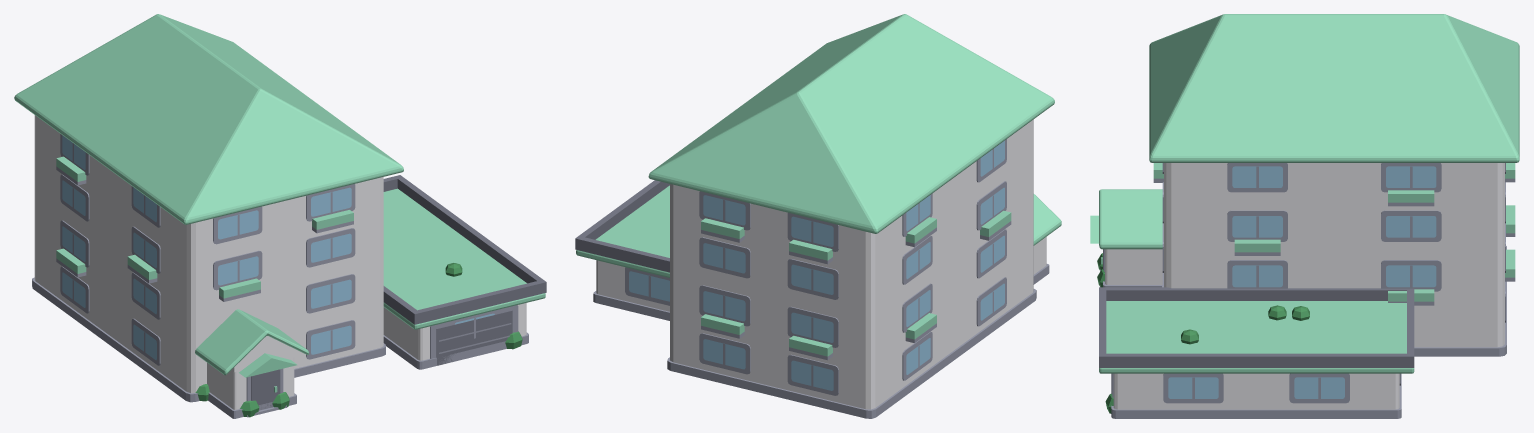
File: house-2x2-4f-mansard-a.glb
The picture shows the model from 3 angles, left to right: view 1: azimuth 30°, elevation 25°; view 2: azimuth 150°, elevation 25°; view 3: azimuth 270°, elevation 25°; orthographic projection. The views are drawn at different scales.
Visible parts, largest first — view 1: house-2x2-4f-mansard-a; view 2: house-2x2-4f-mansard-a; view 3: house-2x2-4f-mansard-a.
Boxes of the visible parts, x1,y1,x2,y2 form: house-2x2-4f-mansard-a: (14, 14, 546, 418); house-2x2-4f-mansard-a: (575, 14, 1061, 418); house-2x2-4f-mansard-a: (1090, 14, 1519, 418).
Bounding box in the file's own units: 2 × 1.52 × 2.04.
Materials: 1 (1 with a texture image).
